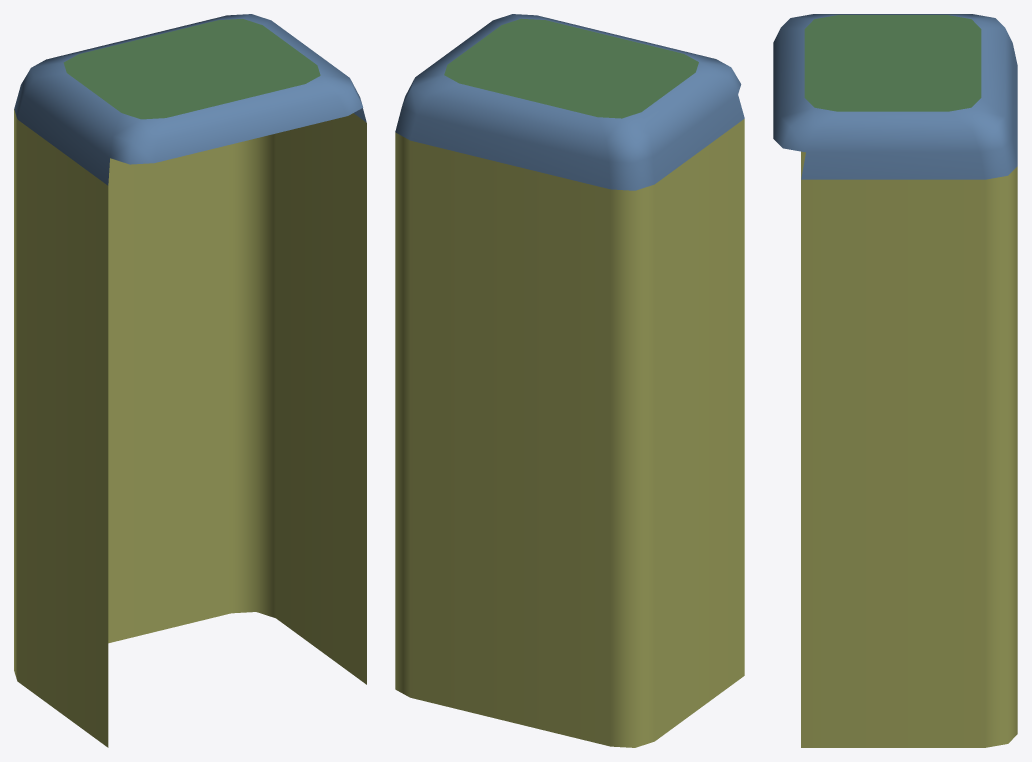
Rendered from PLat_Grande2.fbx.
The picture shows the model from 3 angles, left to right: view 1: azimuth 30°, elevation 25°; view 2: azimuth 150°, elevation 25°; view 3: azimuth 270°, elevation 25°; orthographic projection.
Parts seen in each view (by area): view 1: PLat_Grande2, Wall5, Ground5; view 2: PLat_Grande2, Wall5, Ground5; view 3: PLat_Grande2, Wall5, Ground5.
Boxes of the visible parts, box(x1,y1,x2,y2) form: PLat_Grande2: box(14, 109, 366, 747); Wall5: box(14, 14, 366, 185); Ground5: box(63, 19, 320, 119); PLat_Grande2: box(395, 119, 744, 747); Wall5: box(395, 14, 744, 190); Ground5: box(444, 18, 698, 118); PLat_Grande2: box(801, 151, 1017, 747); Wall5: box(773, 14, 1017, 179); Ground5: box(804, 15, 981, 111).
Size of the model in its own units: 5835 by 13244 by 4729.
